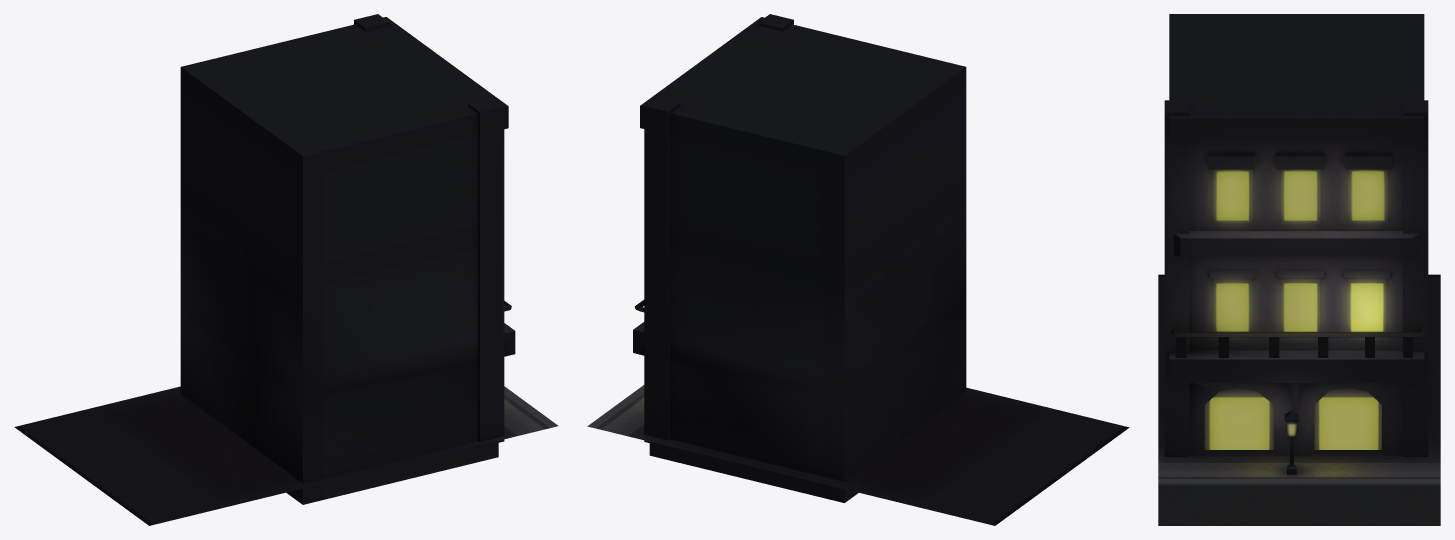
3 renders of one model, left to right at view 1: azimuth 30°, elevation 25°; view 2: azimuth 150°, elevation 25°; view 3: azimuth 270°, elevation 25°, orthographic. The views are drawn at different scales.
Parts seen in each view (by area): view 1: modelB001; view 2: modelB001; view 3: modelB001.
Part boxes in pixels (<box>): modelB001: <box>14,14,558,525</box>; modelB001: <box>587,14,1129,525</box>; modelB001: <box>1158,14,1440,525</box>.
Size of the model in its own units: 7 by 6.05 by 4.
1 material, 1 textured.
